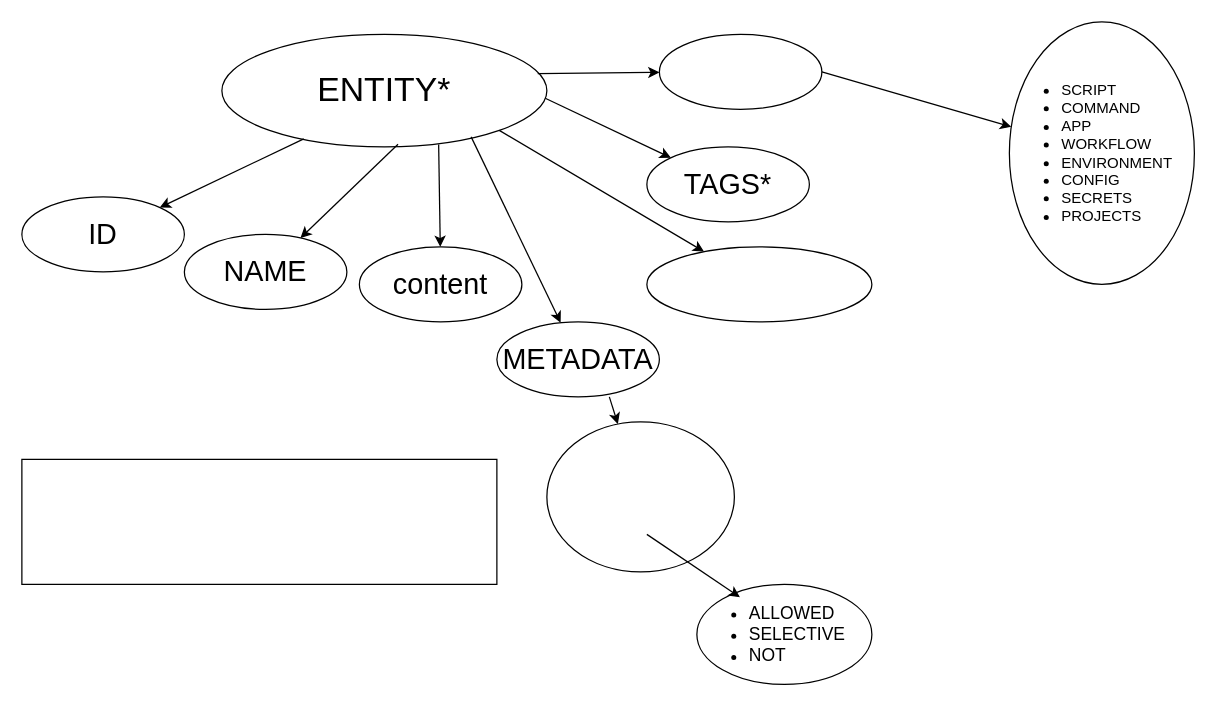
This 1216x706 diagram has some shape labels left out. The shapes that lost their labels are listed below. From the top down, each one's centre as x and y in pixels, then its label:
At pixel 740 71: "TYPE*".
At pixel 759 284: "DESCRIPTION".
At pixel 640 496: "SYNC STATE TARGETS MODE".
At pixel 259 521: "* = table needed".
